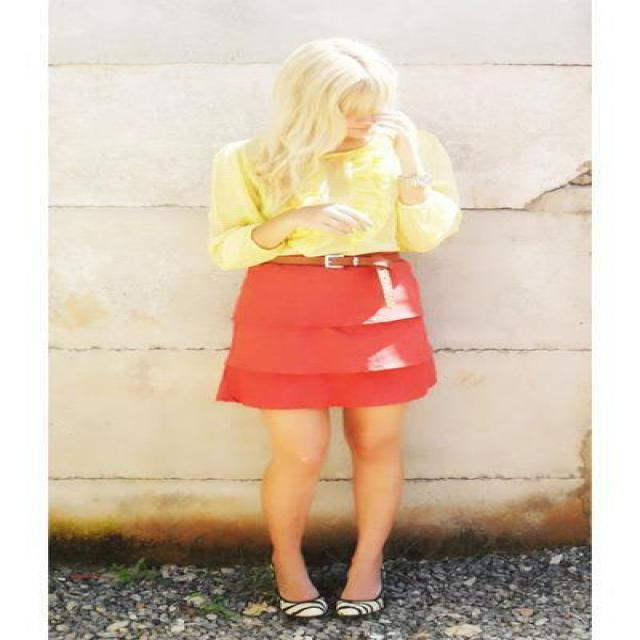shirt: (234, 128, 461, 267)
shoe: (288, 602, 378, 639)
skirt: (216, 252, 440, 414)
